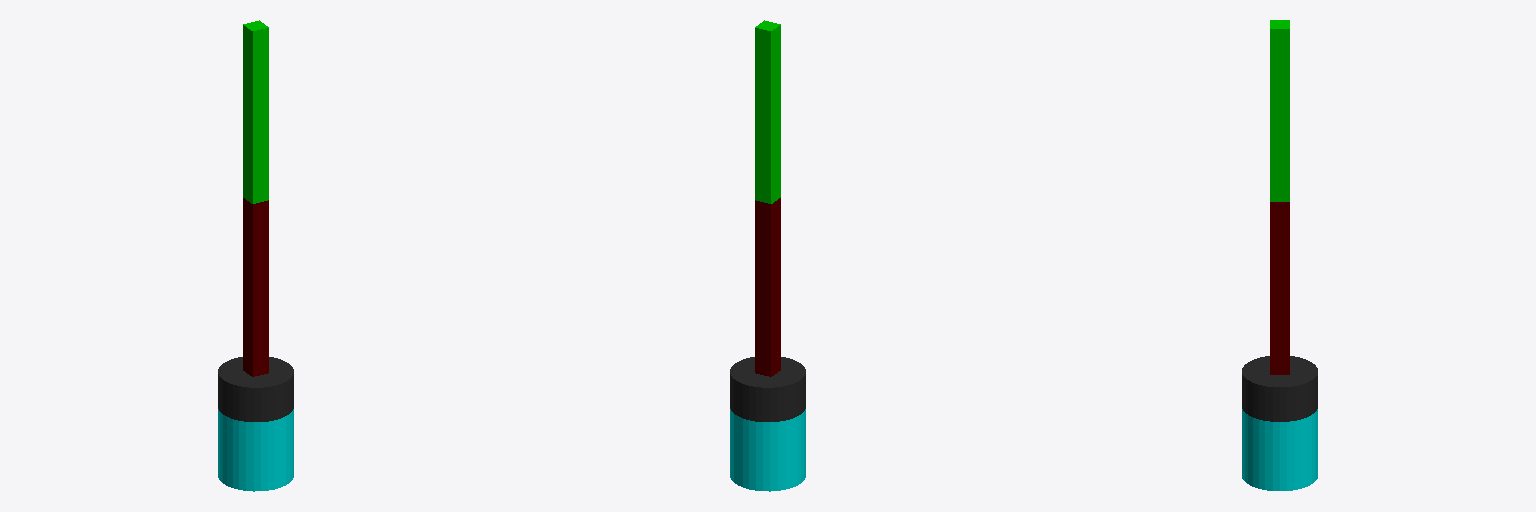
robot.urdf — arm:
<robot name="arm">
    <!-- * * * LINKS * * * -->
 	<link name="base_link">
		<visual>
		    <origin xyz="0 0 0.2" rpy="0 0 0"/>
			<geometry>
				<cylinder radius="0.2" length="0.4"/>
			</geometry>
			<material name="Cyan1">
	       		<color rgba="0 0.9 0.9 1.0"/>
	     	</material>
		</visual>	
	</link>
	
 	<link name="rotation_base">
		<visual>
		    <origin xyz="0 0 0.5" rpy="0 0 0"/>
			<geometry>
				<cylinder radius="0.2" length="0.2"/>
			</geometry>
			<material name="Black1">
	       		<color rgba="0.2 0.2 0.2 1.0"/>
	     	</material>
		</visual>	
	</link>

    <link name="arm1">
		<visual>
		    <origin xyz="0 0 0.5" rpy="0 0 0"/>
			<geometry>
				<box size="0.1 0.1 1"/>
			</geometry>
			<material name="Red">
	       		<color rgba="0.4 0 0 1.0"/>
	     	</material>
		</visual>	
	</link>
    ´
    <link name="arm2">
		<visual>
		    <origin xyz="0 0 0.5" rpy="0 0 0"/>
			<geometry>
				<box size="0.1 0.1 1"/>
			</geometry>
			<material name="Green">
	       		<color rgba="0 0.8 0 1.0"/>
	     	</material>
		</visual>	
	</link>

    <!-- * * * JOINTS * * * -->
    
 	<joint name="rotation_base_link" type="revolute">
    	<parent link="base_link"/>
    	<child link="rotation_base"/>
    	<origin xyz="0 0 0" rpy="0 0 0"/>
       	<limit lower="-1.57" upper="1.57" effort="10" velocity="3"/>
        <axis xyz="0 0 1"/>
	</joint>

    <joint name="rotation_arm1" type="revolute">
    	<parent link="rotation_base"/>
    	<child link="arm1"/>
    	<origin xyz="0 0 0.6" rpy="0 0 0"/>
       	<limit lower="-1.57" upper="1.57" effort="10" velocity="3"/>
        <axis xyz="0 1 0"/>
	</joint>

    <joint name="rotation_arm2" type="revolute">
    	<parent link="arm1"/>
    	<child link="arm2"/>
    	<origin xyz="0 0 1" rpy="0 0 0"/>
       	<limit lower="-1.57" upper="1.57" effort="10" velocity="3"/>
        <axis xyz="0 1 0"/>
	</joint>
	
</robot>

--- What the picture shows (computed from the rendered views, not written in the file) ---
The picture shows the robot from 3 angles, left to right: view 1: azimuth 30°, elevation 25°; view 2: azimuth 150°, elevation 25°; view 3: azimuth 270°, elevation 25°; orthographic projection.
Robot: arm — 4 links, 3 joints (3 revolute); root link base_link; default pose: all joints at 0.
Links seen in each view (by area): view 1: base_link, arm2, arm1, rotation_base; view 2: base_link, arm2, arm1, rotation_base; view 3: base_link, rotation_base, arm2, arm1.
Link boxes in pixels (x1,y1,x2,y2): base_link: (218,409,293,491); arm2: (243,20,268,203); arm1: (243,198,268,376); rotation_base: (218,357,293,421); base_link: (730,409,805,491); arm2: (755,20,780,203); arm1: (755,198,780,376); rotation_base: (730,357,805,421); base_link: (1242,409,1317,490); rotation_base: (1242,356,1317,421); arm2: (1270,20,1289,201); arm1: (1270,202,1289,374).
Bounding box of the posed robot: 0.4 × 0.4 × 2.6 m (x, y, z).
Geometry: primitives only (box / cylinder / sphere), no mesh files.
